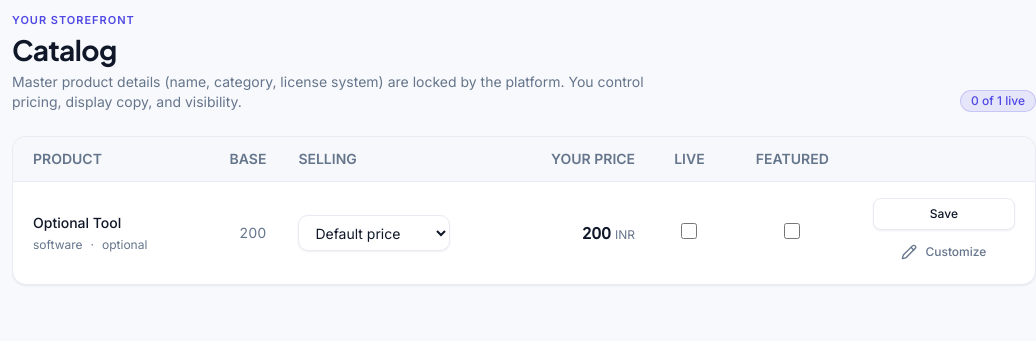
it: CatalogPage › shows an inline error when saving fails
What coordinates should you click on to do the following:
click the button "Save"
I would click on:
 (944, 214)
Its box is top-left (873, 198), bottom-right (1015, 230).
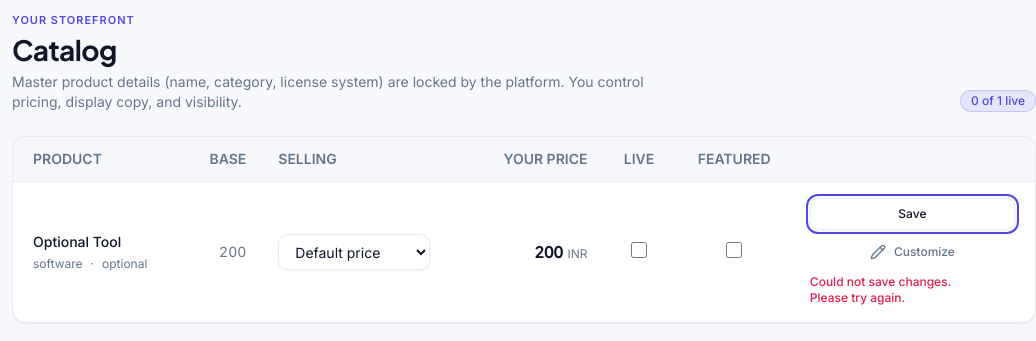
Now the message reads "Could not save changes. Please try again.", box top-left (810, 274), bottom-right (951, 305)
